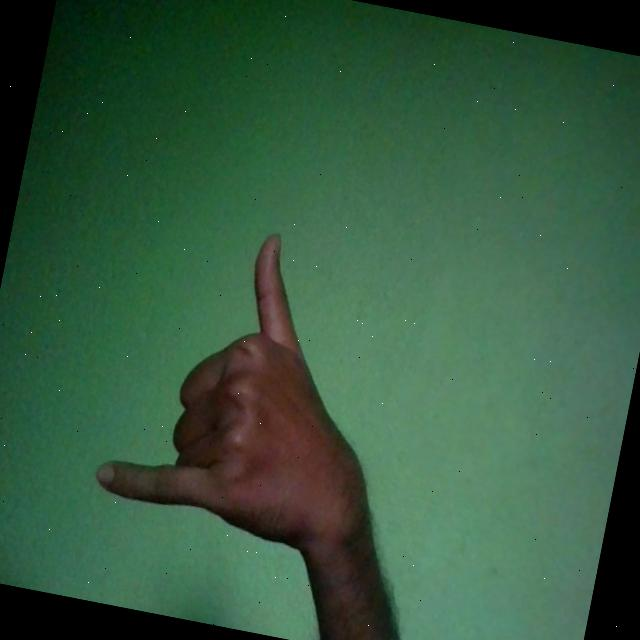Call Me: (88, 208, 428, 565)
